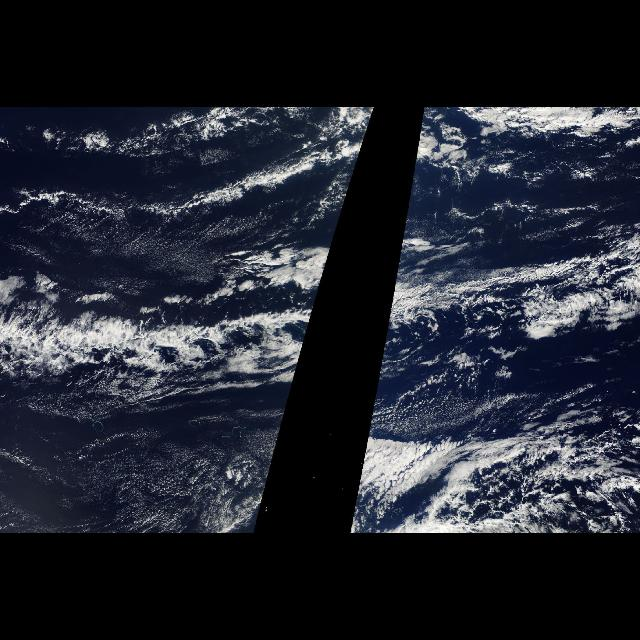Fish: (0, 228, 338, 414), (373, 228, 634, 404)
Sugar: (1, 421, 251, 534), (38, 198, 270, 306)
